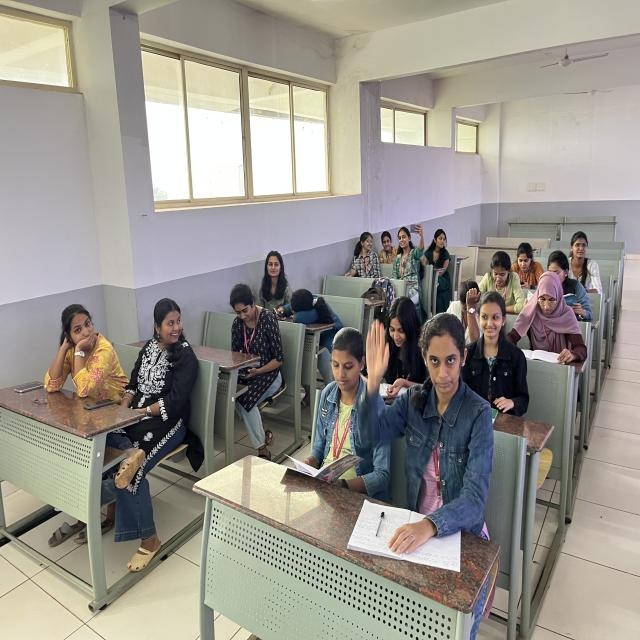Reading: (282, 325, 380, 483), (508, 266, 584, 360)
Sleeping: (282, 284, 348, 350)
Using Phone: (224, 279, 284, 390), (391, 220, 429, 290)
